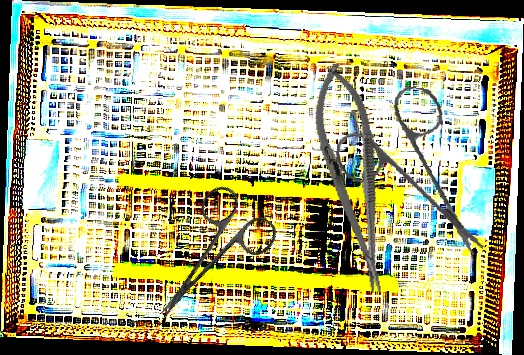Iris Scissors: (324, 77, 505, 257), (129, 179, 283, 340)
Needle Holder: (302, 59, 404, 298)
